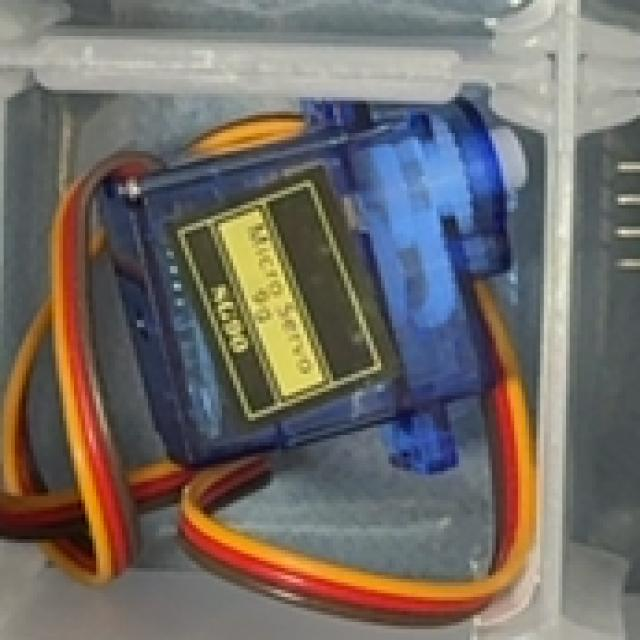Servo motor: (96, 92, 531, 480)
